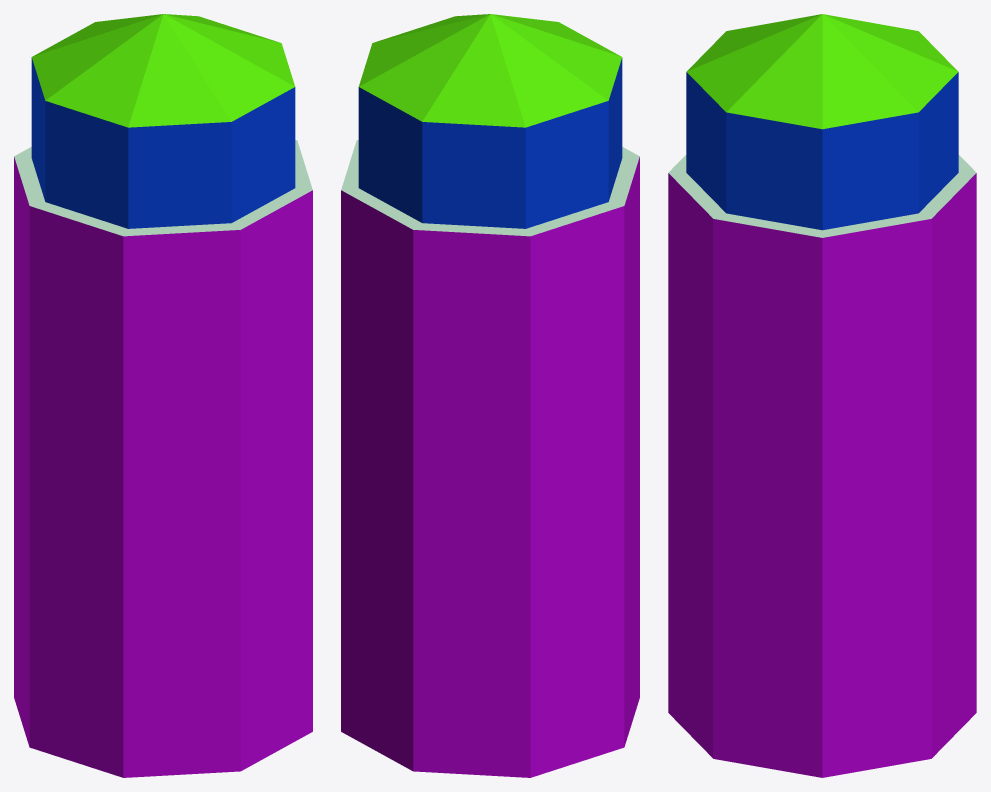
Rendered from Torreon.fbx.
3 renders of one model, left to right at view 1: azimuth 30°, elevation 25°; view 2: azimuth 150°, elevation 25°; view 3: azimuth 270°, elevation 25°, orthographic.
Visible parts, largest first — view 1: Torreon; view 2: Torreon; view 3: Torreon.
Boxes of the visible parts, x1=… form: Torreon: x1=14, y1=14, x2=312, y2=777; Torreon: x1=341, y1=14, x2=639, y2=777; Torreon: x1=668, y1=14, x2=976, y2=777.
Size of the model in its own units: 40 by 100 by 40.
